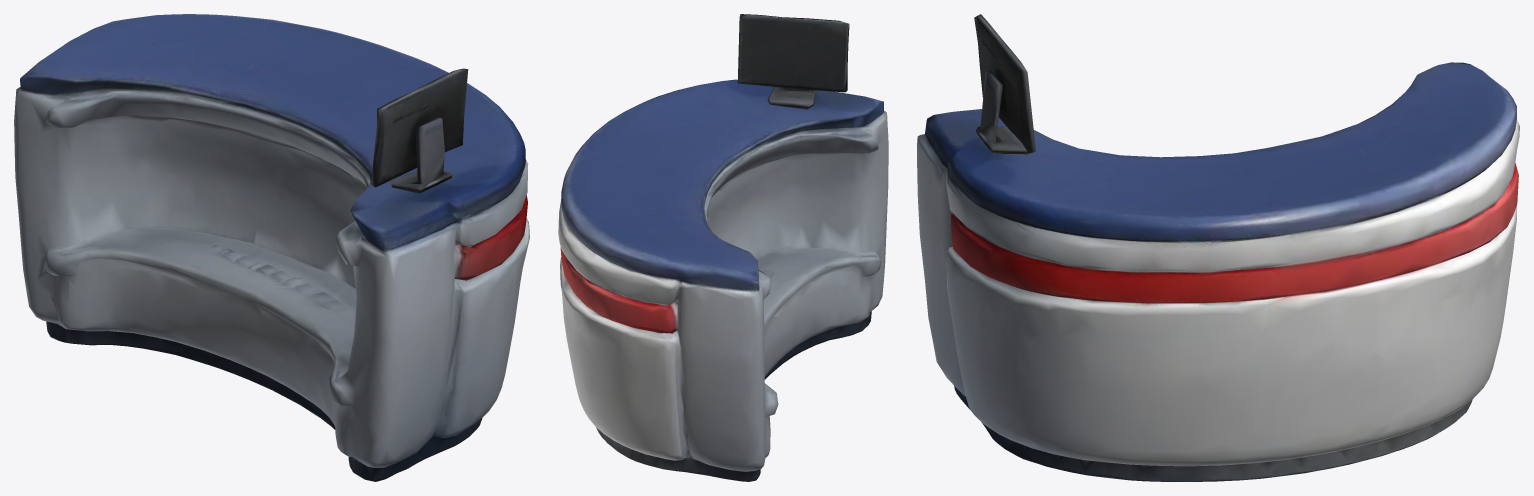
File: reception-desk.glb
The picture shows the model from 3 angles, left to right: view 1: azimuth 30°, elevation 25°; view 2: azimuth 150°, elevation 25°; view 3: azimuth 270°, elevation 25°; orthographic projection. The views are drawn at different scales.
Parts seen in each view (by area): view 1: tripo_node_351b6e93-e9e6-4c72-b8a0-e93f3e495630; view 2: tripo_node_351b6e93-e9e6-4c72-b8a0-e93f3e495630; view 3: tripo_node_351b6e93-e9e6-4c72-b8a0-e93f3e495630.
Boxes of the visible parts, box(x1,y1,x2,y2) form: tripo_node_351b6e93-e9e6-4c72-b8a0-e93f3e495630: box(14, 14, 529, 481); tripo_node_351b6e93-e9e6-4c72-b8a0-e93f3e495630: box(558, 14, 888, 481); tripo_node_351b6e93-e9e6-4c72-b8a0-e93f3e495630: box(917, 14, 1519, 481).
Size of the model in its own units: 0.6706 by 0.7015 by 1.
1 material, 1 textured.
